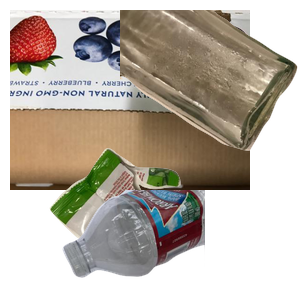cardboard: (10, 10, 250, 190)
glass: (120, 10, 300, 153)
plastic: (60, 190, 300, 280)
trash: (47, 146, 220, 300)
